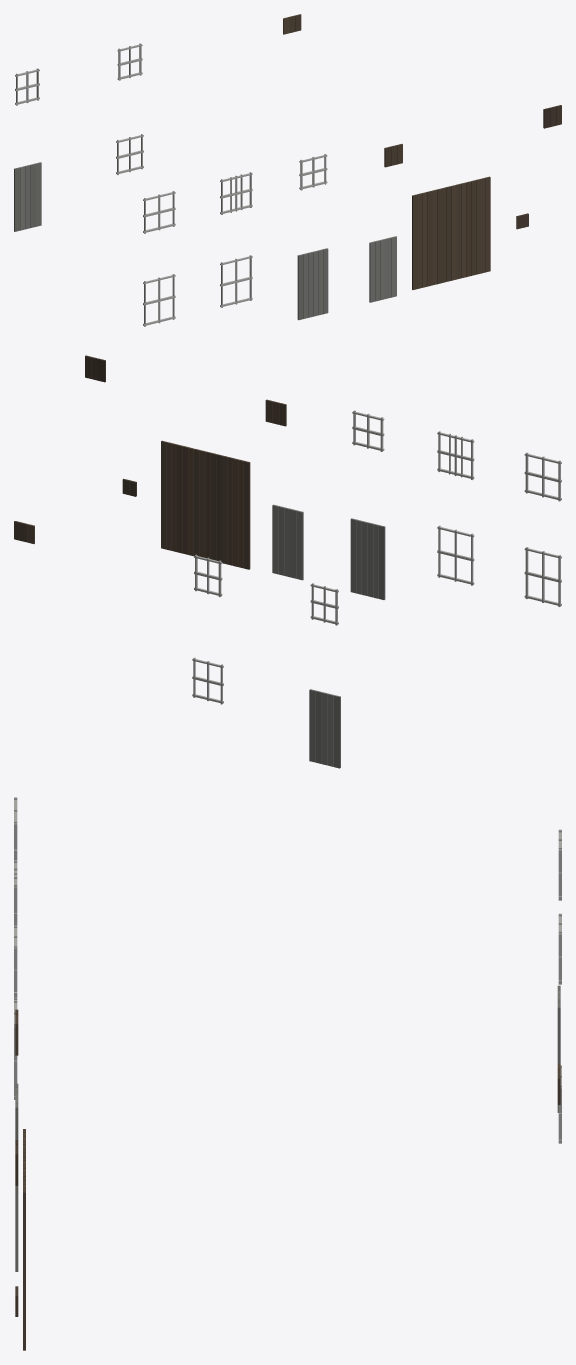
The model's file is SM_Bld_208_Wood.glb.
3 renders of one model, top to bottom at view 1: azimuth 30°, elevation 25°; view 2: azimuth 150°, elevation 25°; view 3: azimuth 270°, elevation 25°, orthographic. The views are drawn at different scales.
Visible parts, largest first — view 1: SM_Bld_208_Wood; view 2: SM_Bld_208_Wood; view 3: SM_Bld_208_Wood.
Part boxes in pixels (x1,y1,x2,y2): SM_Bld_208_Wood: (14, 14, 561, 326); SM_Bld_208_Wood: (14, 355, 561, 768); SM_Bld_208_Wood: (14, 797, 561, 1350).
Size of the model in its own units: 13.96 by 5.08 by 9.43.
